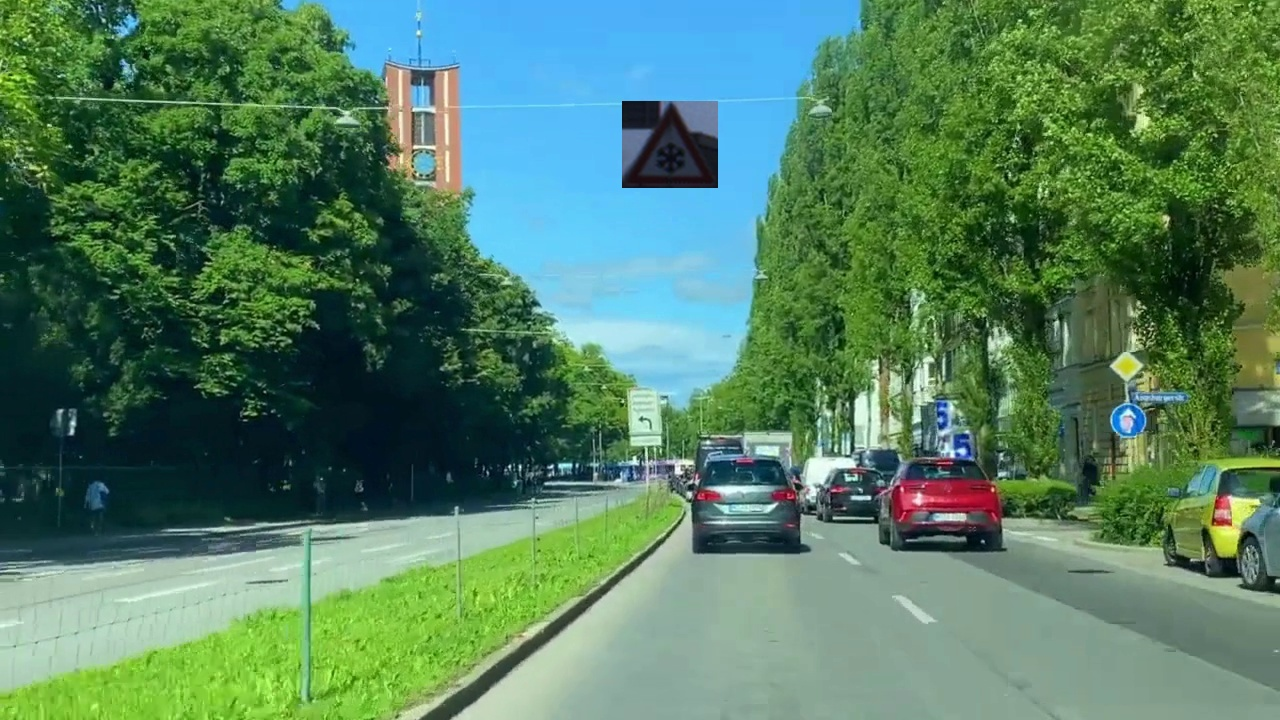Ice/snow: (622, 101, 718, 188)
